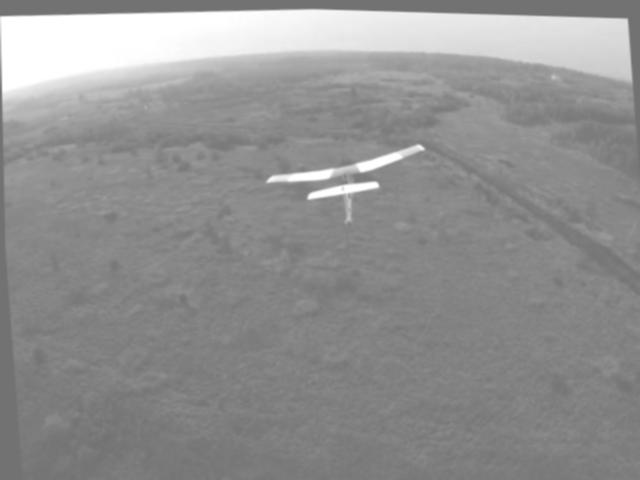hedef: (256, 132, 440, 238)
